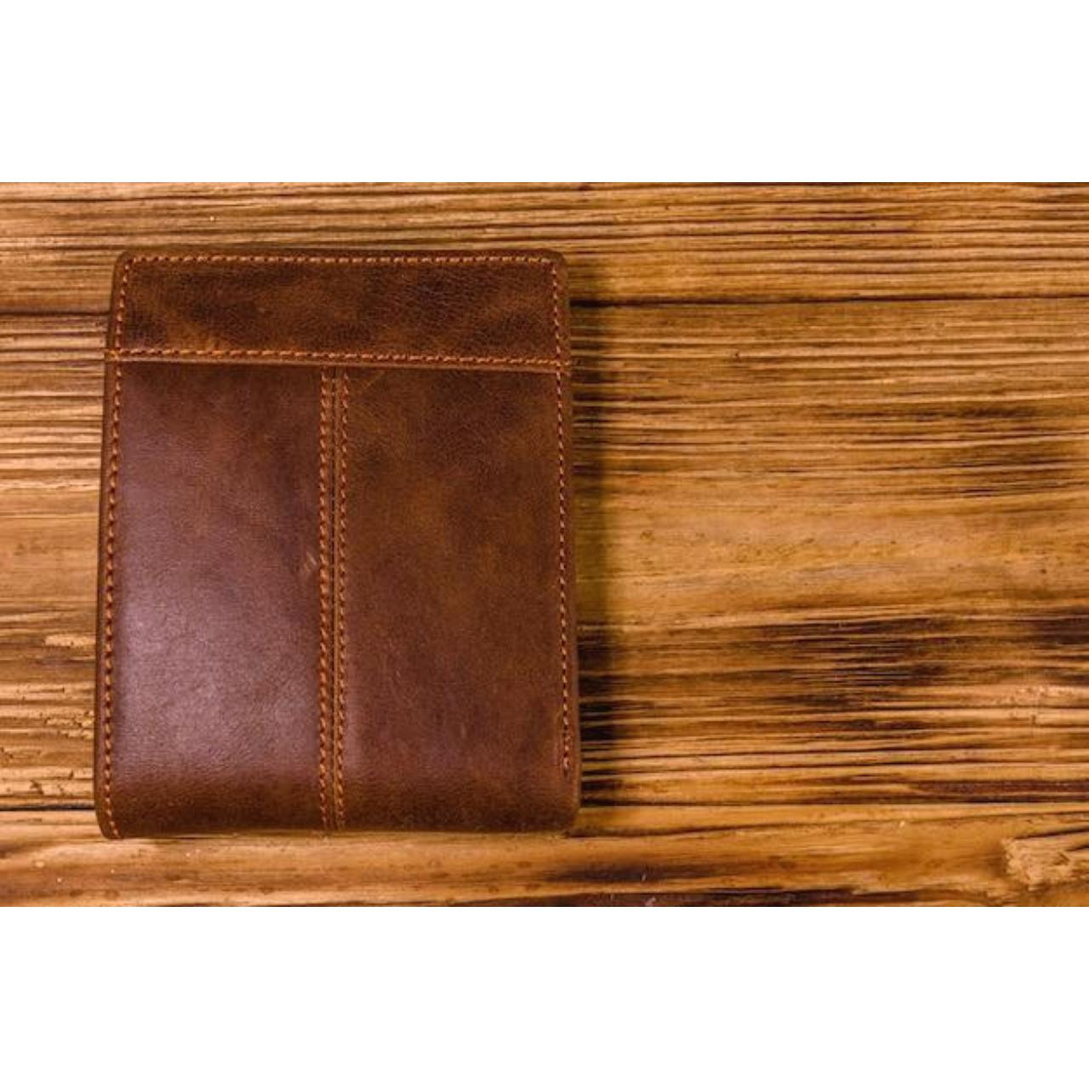wallet: (46, 207, 699, 877)
